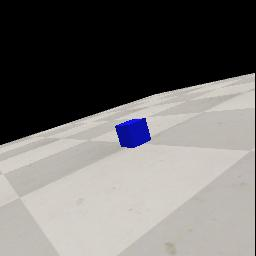box: (115, 118, 151, 148)
